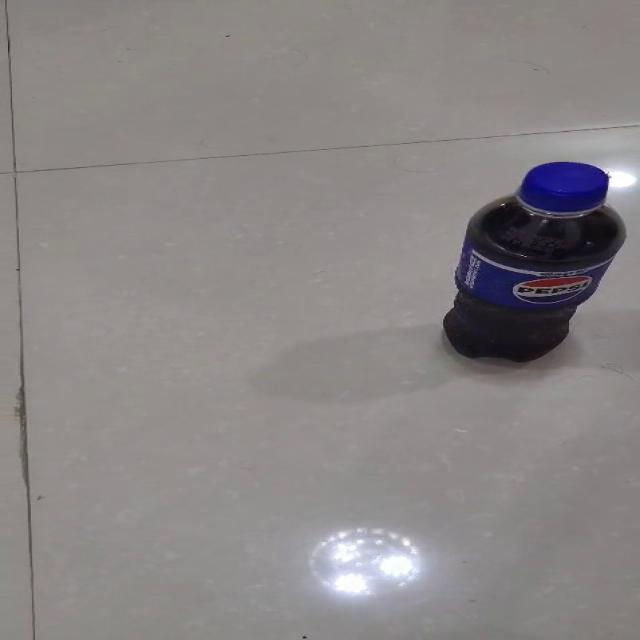plastic: (440, 160, 626, 362)
